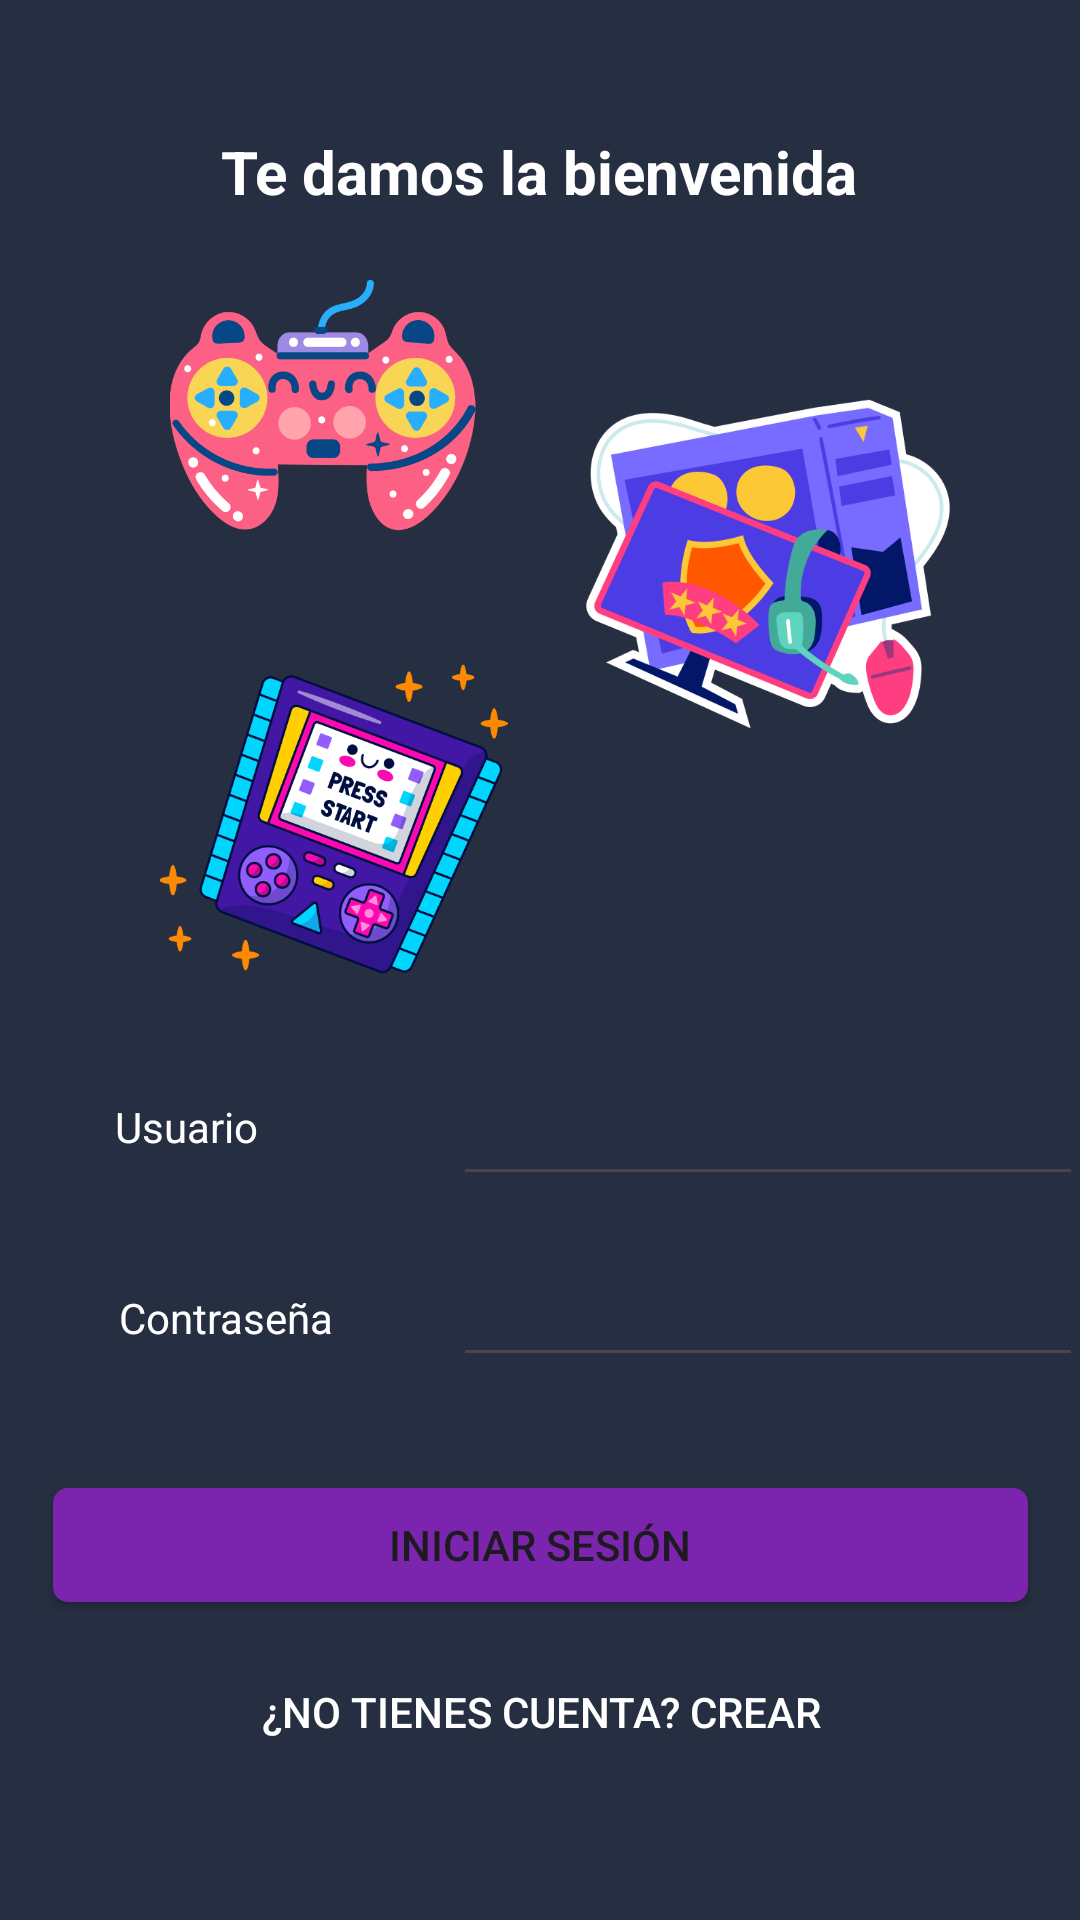

Locate icon controls on the screen. Image size 1080px×1920px, boxes as (x1, y1, x2, y2).
game controller: (170, 280, 476, 530)
